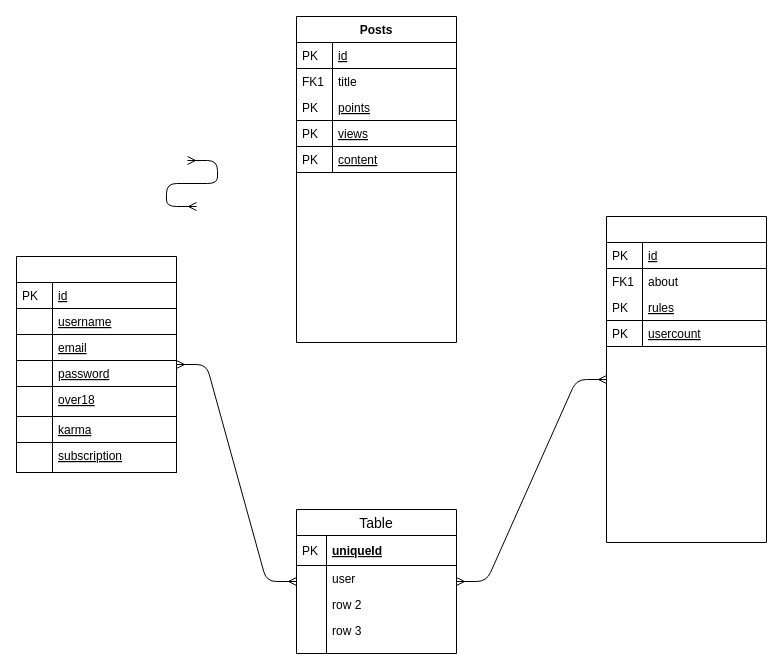
This 783x670 diagram has some shape labels left out. Each missing label, with the box of its shape:
Subseddit: (606, 216, 766, 542)
Users: (16, 256, 176, 472)
